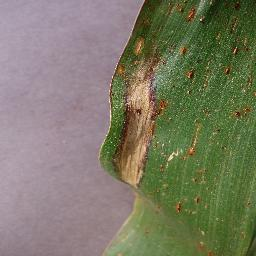Corn_Blight: (112, 28, 156, 205), (126, 0, 214, 28), (225, 0, 256, 56), (177, 44, 193, 89), (174, 133, 198, 162), (189, 172, 206, 211), (190, 228, 212, 252), (155, 93, 170, 120), (167, 201, 184, 217), (237, 102, 252, 120), (221, 61, 236, 79)
